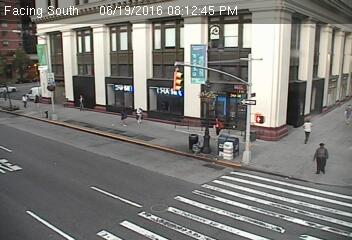neg: (25, 161, 47, 190), (144, 188, 165, 216), (56, 44, 75, 68), (95, 186, 110, 206), (241, 53, 256, 73), (13, 64, 24, 79), (32, 45, 42, 59), (24, 25, 32, 35), (1, 47, 8, 58), (9, 23, 13, 29), (25, 65, 29, 70)
pos: (310, 141, 338, 178), (74, 93, 92, 116), (300, 115, 317, 138), (118, 102, 134, 124), (17, 89, 32, 109), (32, 93, 46, 112), (339, 102, 351, 124), (135, 105, 148, 124)
